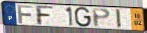1: (64, 6, 74, 27)
F: (34, 4, 55, 26), (17, 4, 35, 25)
G: (74, 7, 93, 29)
I: (115, 9, 123, 30)
P: (91, 8, 112, 29)
